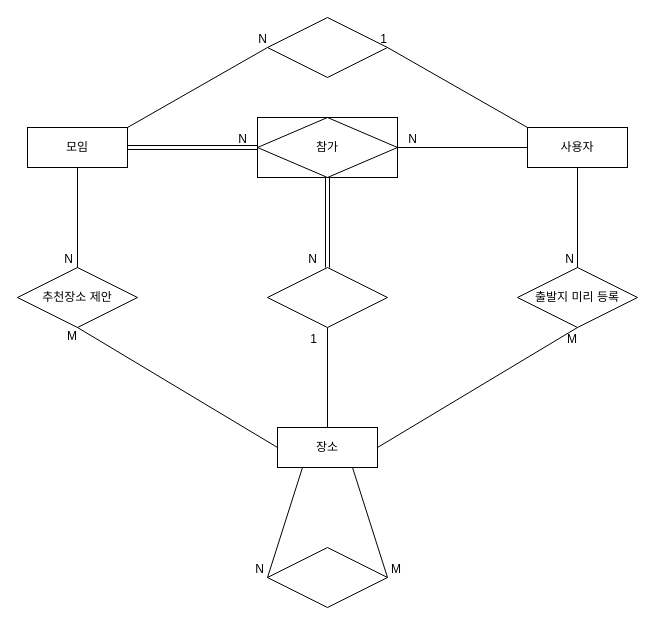
Some shapes in this 655 by 625 pixel diagram are drawn without their labels. Each missing label, with the centre of its shape:
경로: point 327,577
관리: point 327,47
출발지등록: point 327,297
